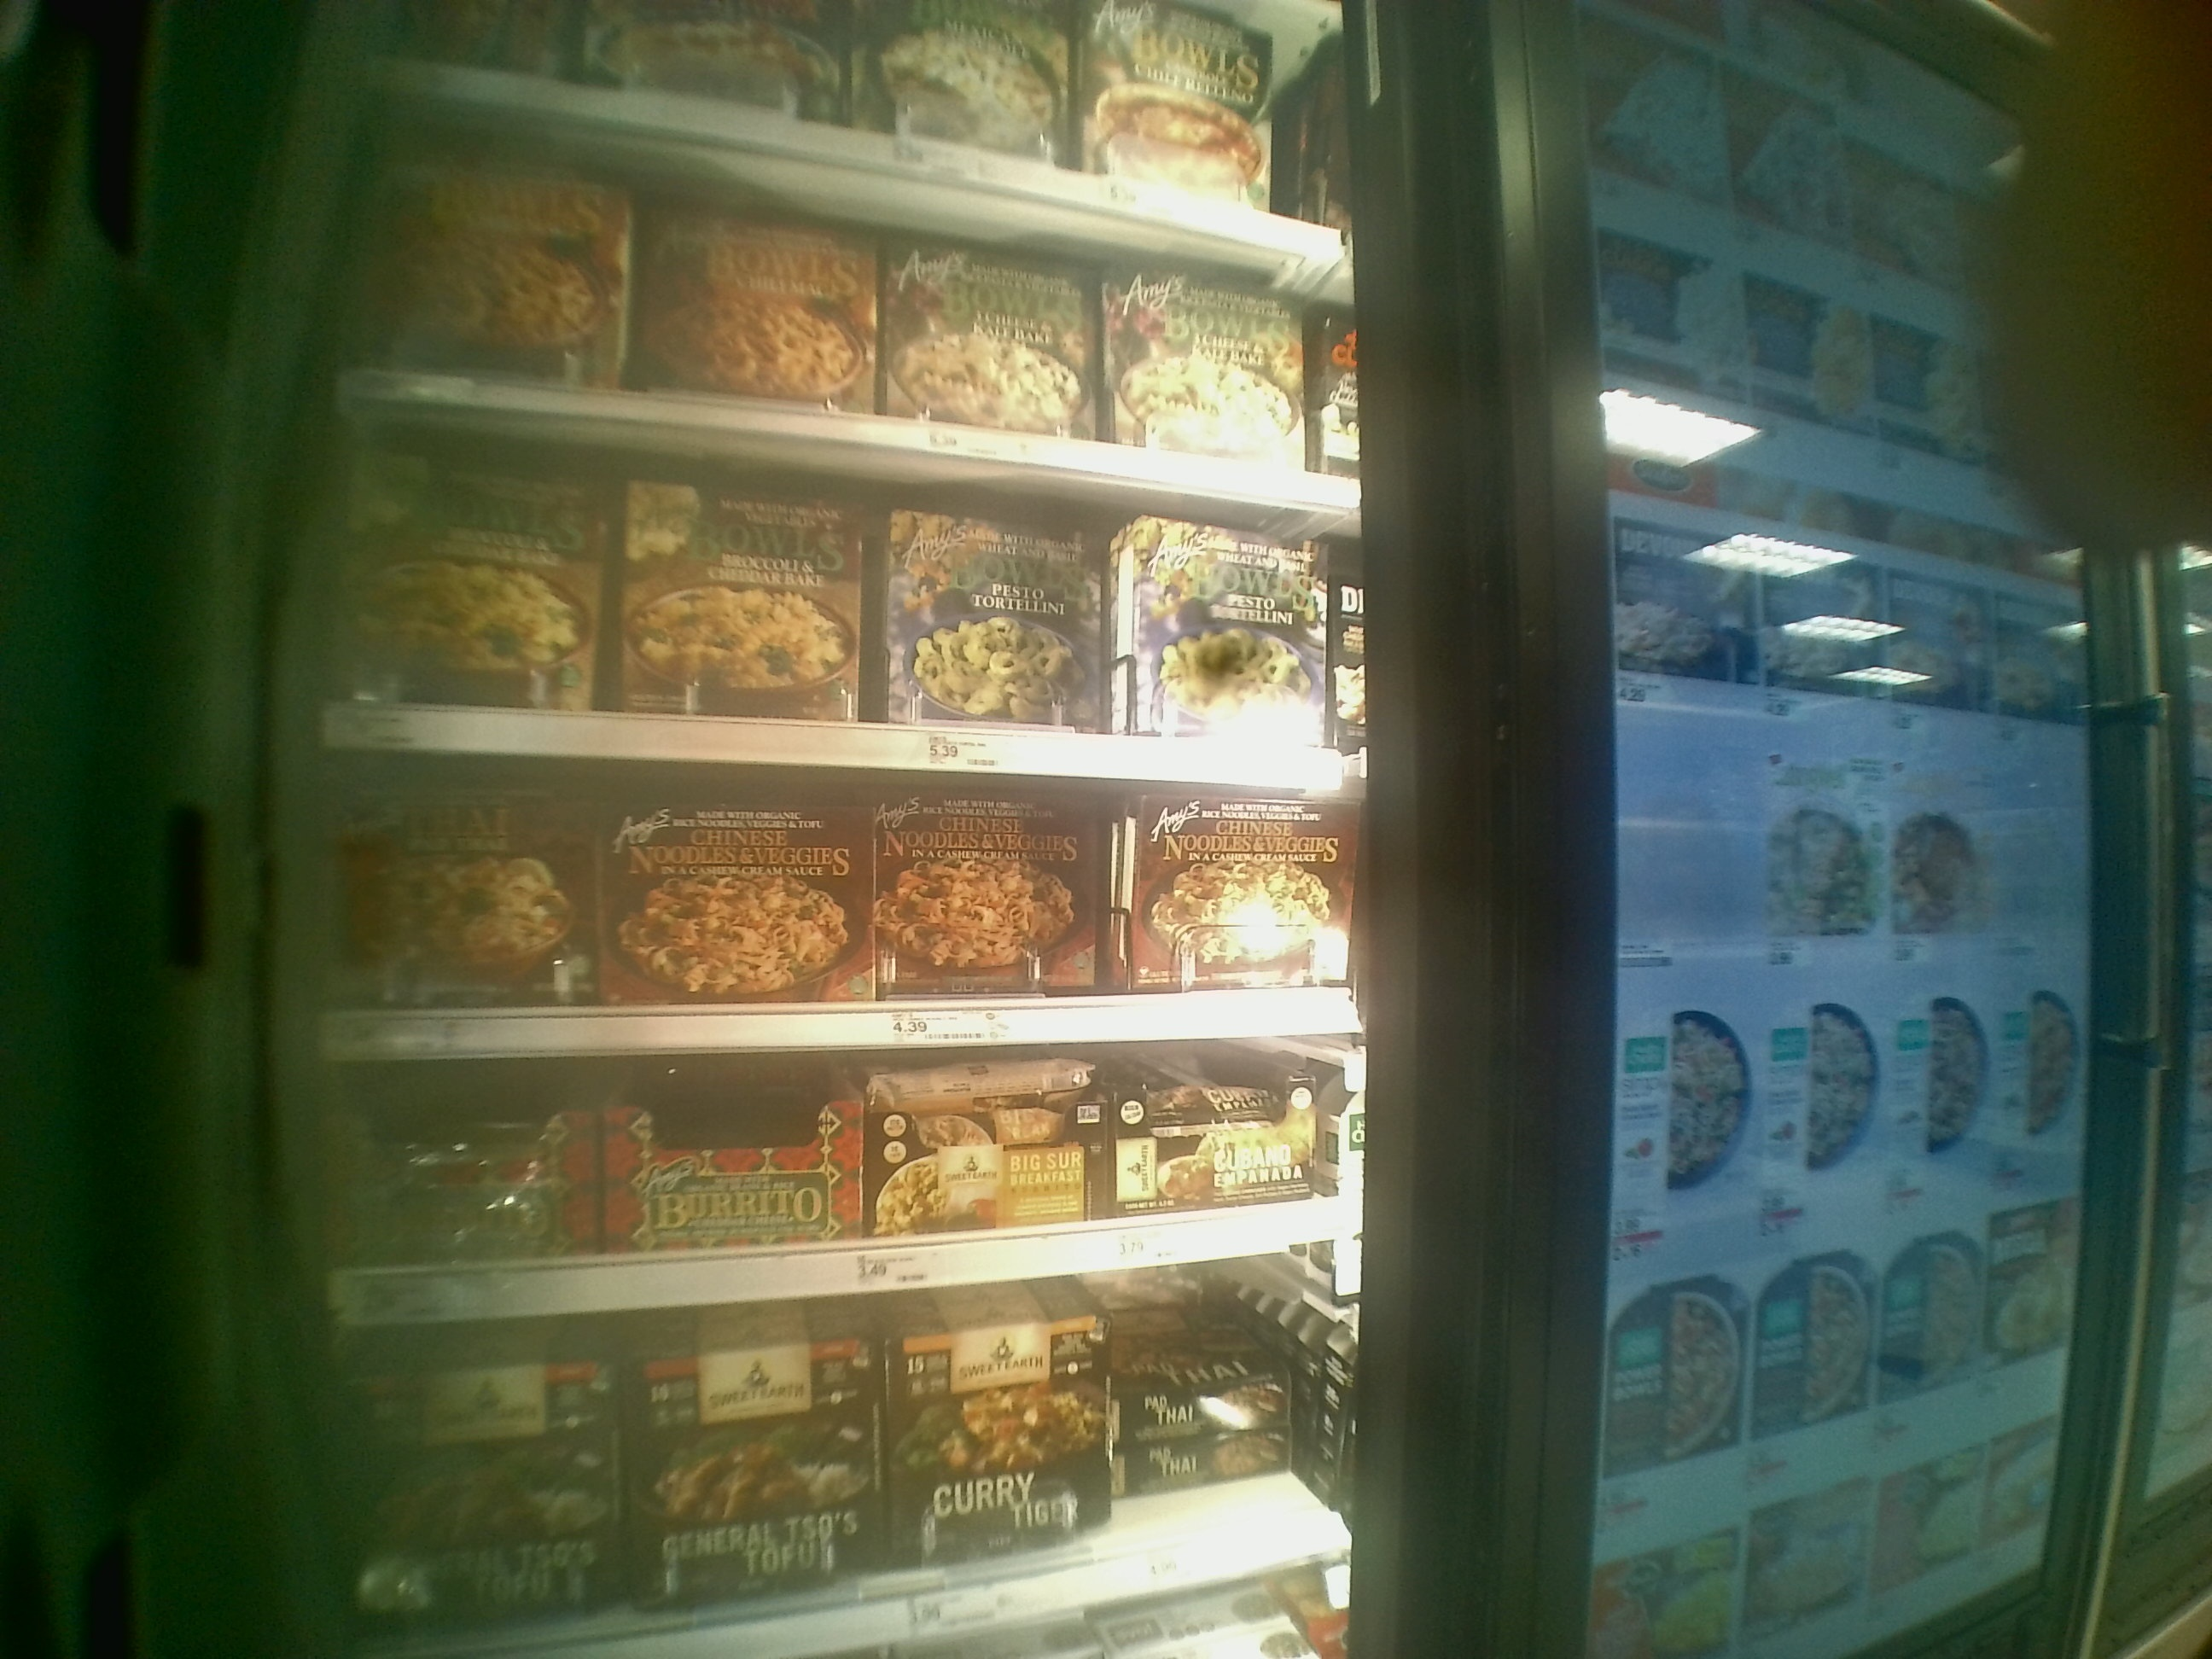frozen-food-shelf: (256, 516, 1379, 793), (251, 796, 1374, 1070), (254, 1075, 1379, 1337)
